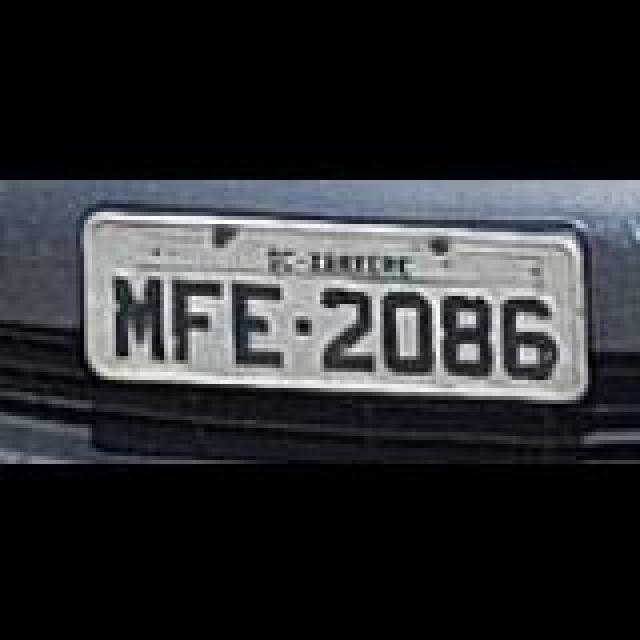2: (322, 286, 374, 370)
6: (504, 294, 560, 378)
8: (440, 290, 496, 374)
D: (384, 290, 440, 374)
E: (228, 276, 284, 364)
F: (174, 278, 226, 362)
M: (114, 272, 166, 360)
